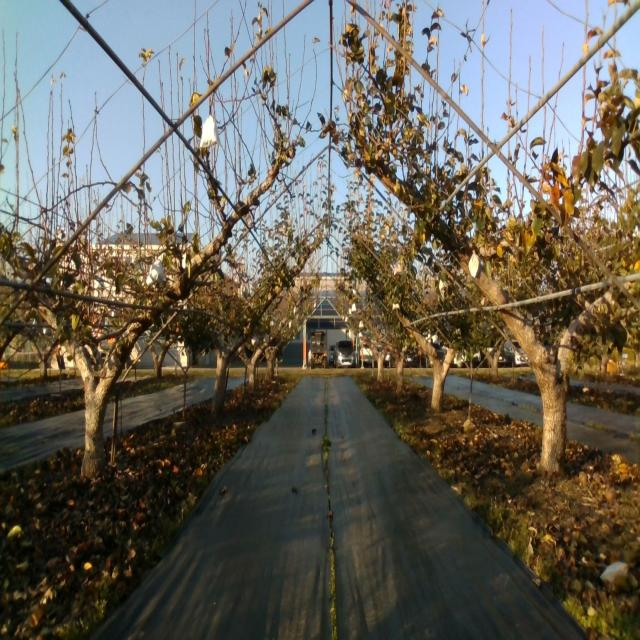pearbags: (200, 114, 218, 148), (146, 259, 167, 285), (468, 249, 482, 279)
